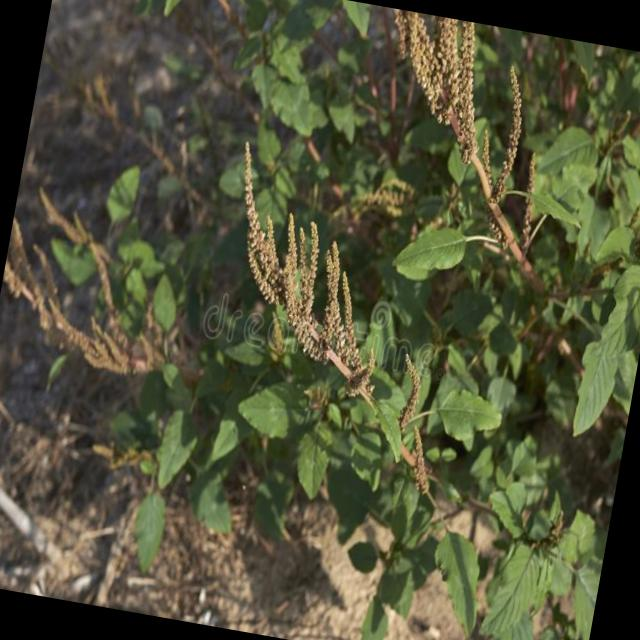Medicinal-Arive Dantu: (182, 138, 540, 518), (341, 20, 640, 408), (16, 232, 222, 430), (460, 463, 614, 640)
